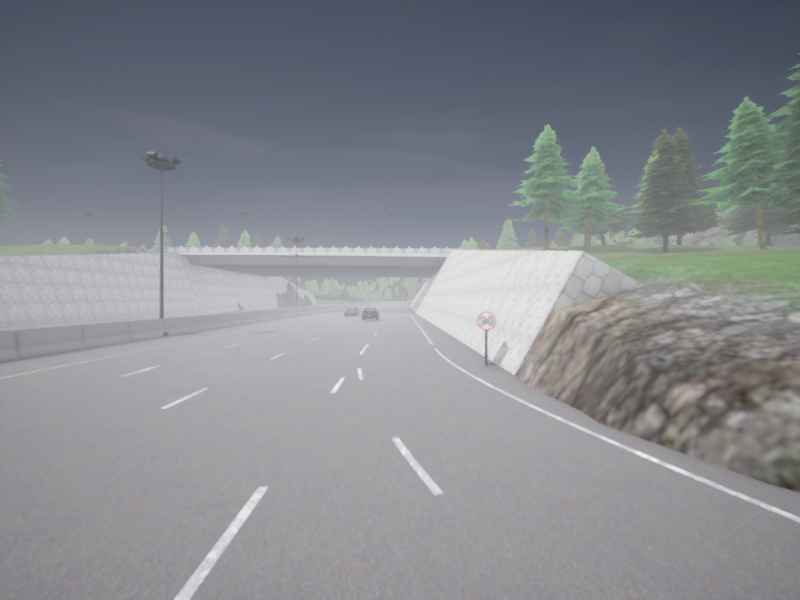vehicle: (362, 307, 379, 319), (345, 307, 360, 316)
